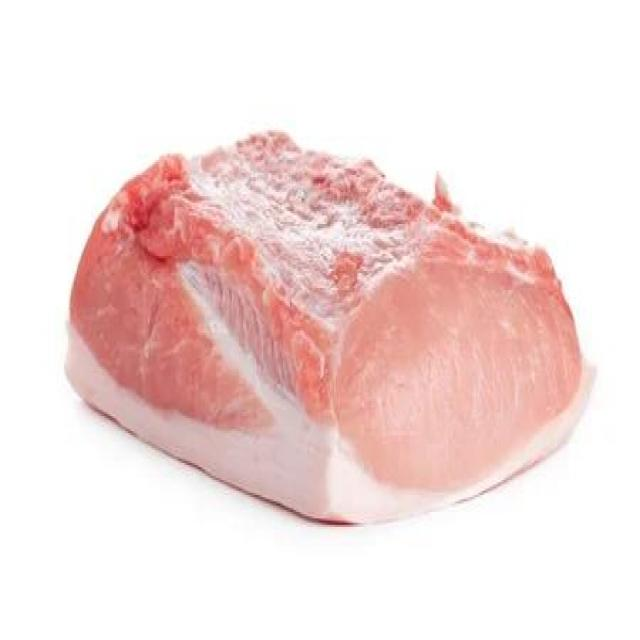pork belly: (75, 165, 574, 472)
